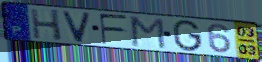6: (206, 23, 233, 54)
F: (98, 13, 130, 46)
G: (172, 19, 203, 53)
H: (29, 8, 64, 43)
M: (130, 16, 168, 51)
V: (61, 10, 92, 44)
